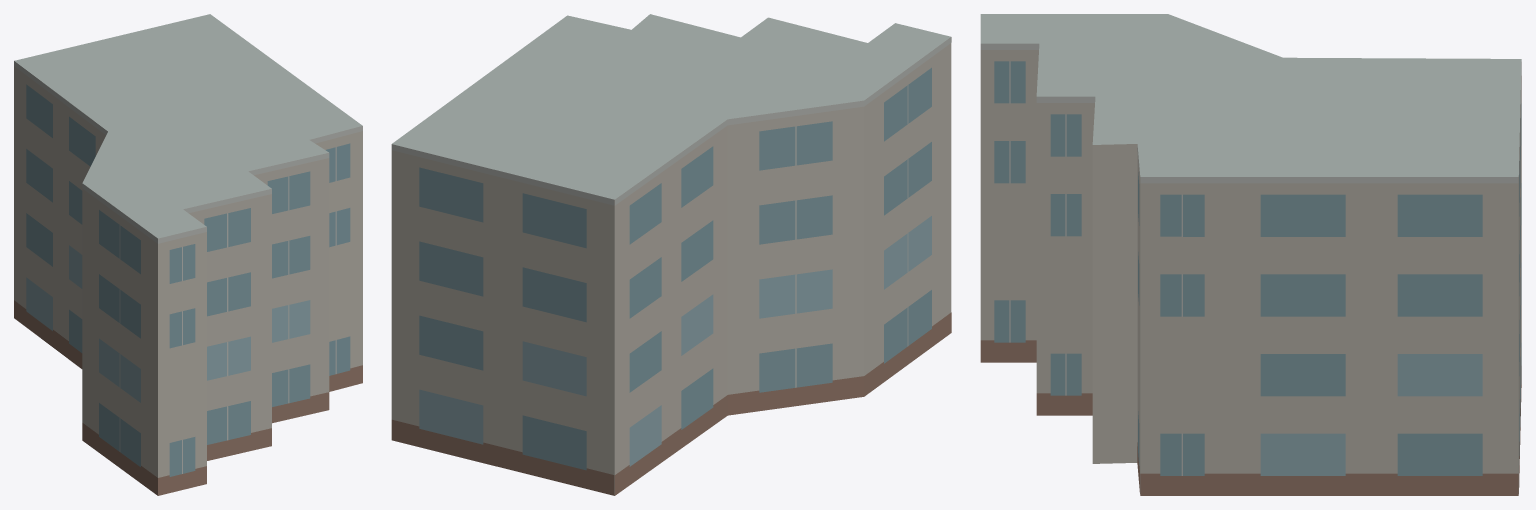
File: survey-upis-32869983.glb
3 renders of one model, left to right at view 1: azimuth 30°, elevation 25°; view 2: azimuth 150°, elevation 25°; view 3: azimuth 270°, elevation 25°, orthographic. The views are drawn at different scales.
Parts seen in each view (by area): view 1: survey-upis-32869983.tmp; view 2: survey-upis-32869983.tmp; view 3: survey-upis-32869983.tmp.
Boxes of the visible parts, x1=… form: survey-upis-32869983.tmp: x1=14, y1=14, x2=362, y2=495; survey-upis-32869983.tmp: x1=391, y1=14, x2=951, y2=495; survey-upis-32869983.tmp: x1=980, y1=14, x2=1521, y2=495.
Size of the model in its own units: 13.16 by 12 by 18.46.
